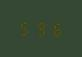five: (18, 19, 31, 36)
nine: (33, 19, 46, 37)
six: (47, 20, 60, 37)
